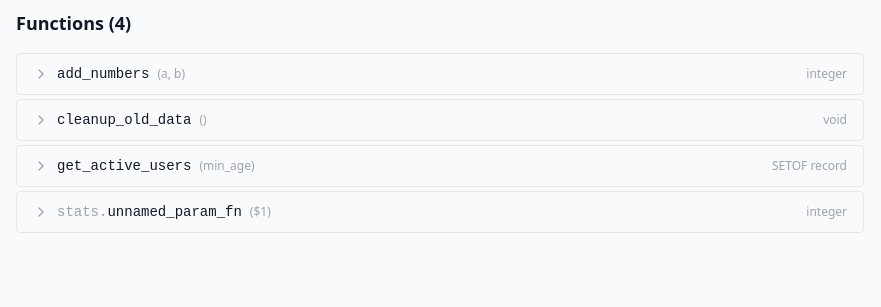
Test case: FunctionBrowser › shows no parameter section for no-arg functions
Click the text "cleanup_old_data" at [124, 120], box [57,110,191,130]
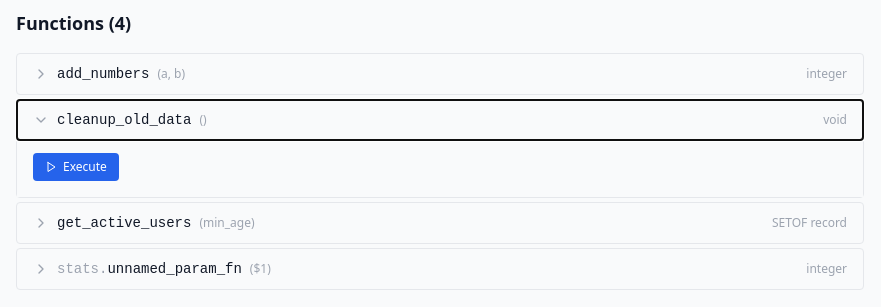
Now the button "Execute" is shown, box [33,153,119,181]
